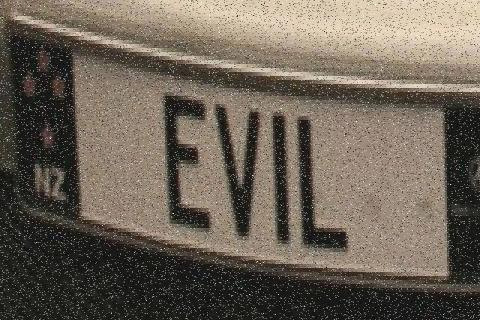LicensePlate: (2, 19, 480, 304)
